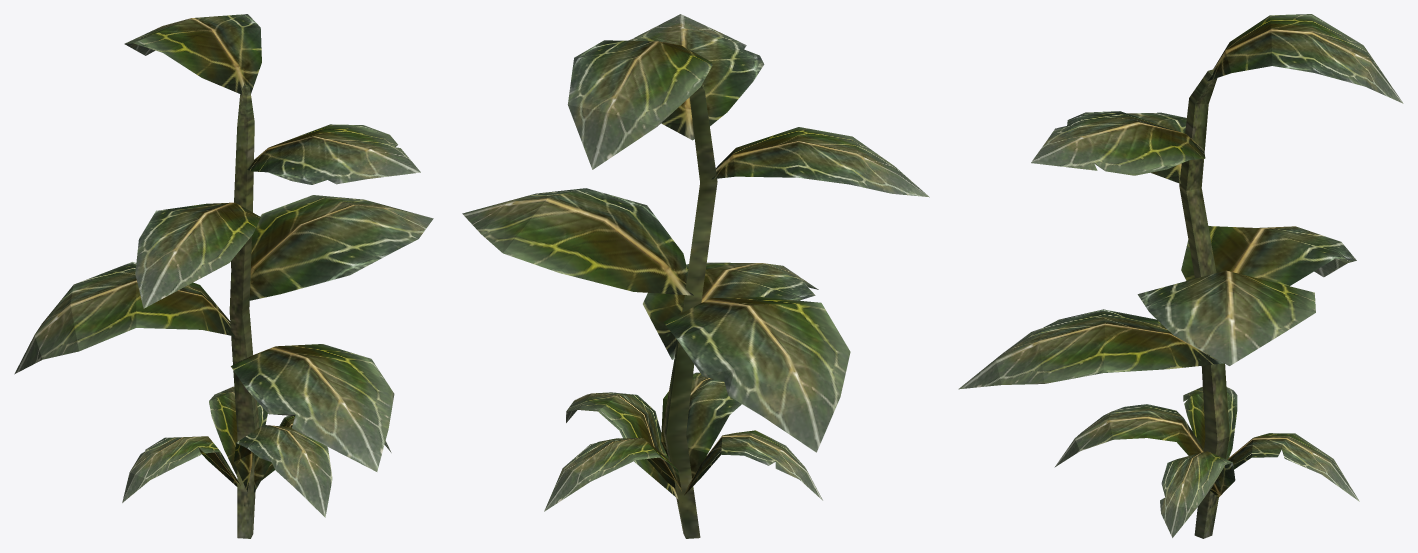
Rendered from SM_EN_2003_Fern02.FBX.
The picture shows the model from 3 angles, left to right: view 1: azimuth 30°, elevation 25°; view 2: azimuth 150°, elevation 25°; view 3: azimuth 270°, elevation 25°; orthographic projection. The views are drawn at different scales.
Parts seen in each view (by area): view 1: SM_EN_2003_Fern02; view 2: SM_EN_2003_Fern02; view 3: SM_EN_2003_Fern02.
Boxes of the visible parts, x1,y1,x2,y2 form: SM_EN_2003_Fern02: [14, 14, 433, 538]; SM_EN_2003_Fern02: [462, 14, 929, 538]; SM_EN_2003_Fern02: [958, 14, 1403, 538].
Size of the model in its own units: 67.05 by 82.71 by 66.17.
